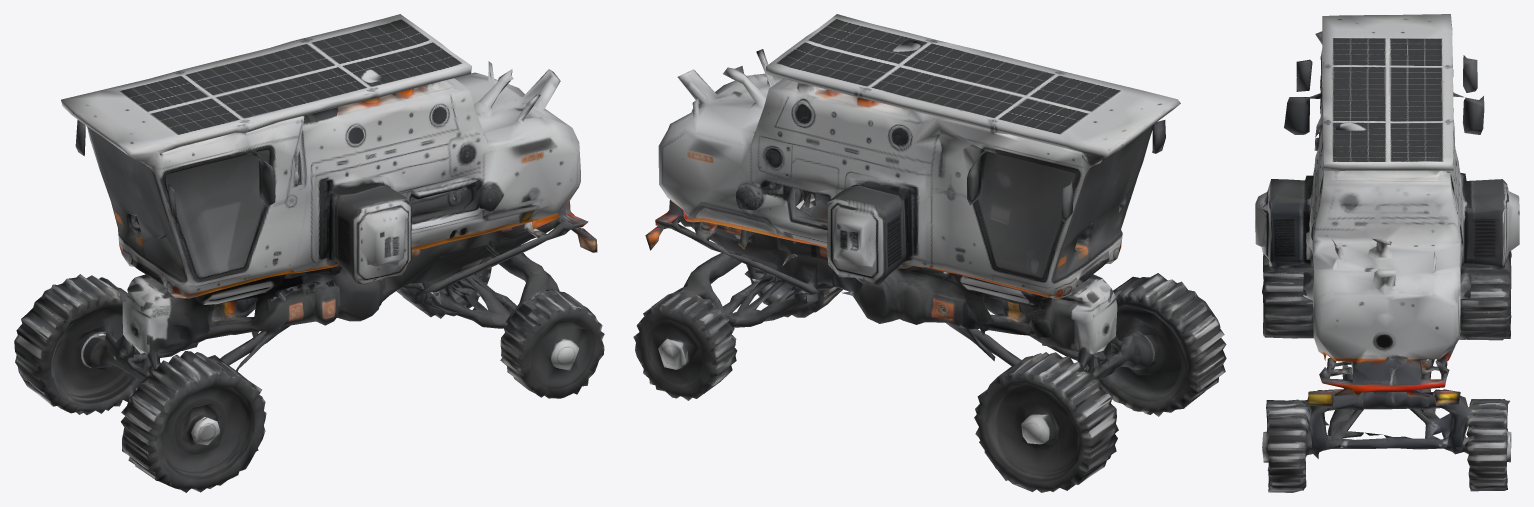
File: Meshy_AI_A_lunar_harvester_of_0417212738_texture.glb
3 views of the same model, side by side, from view 1: azimuth 30°, elevation 25°; view 2: azimuth 150°, elevation 25°; view 3: azimuth 270°, elevation 25° (orthographic). The views are drawn at different scales.
Size of the model in its own units: 2 by 1.32 by 1.06.
1 material, 1 textured.
